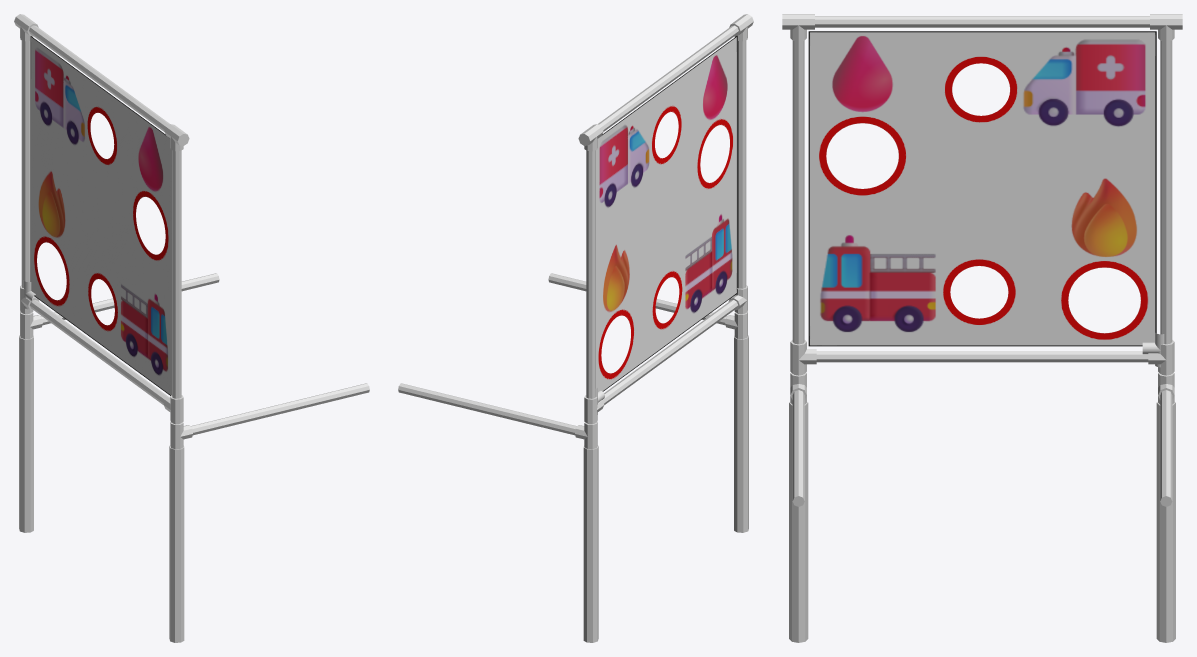
Rendered from torpedoMapping_2026_v2.glb.
3 renders of one model, left to right at view 1: azimuth 30°, elevation 25°; view 2: azimuth 150°, elevation 25°; view 3: azimuth 270°, elevation 25°, orthographic. The views are drawn at different scales.
Parts seen in each view (by area): view 1: Board_V2, Cylinder.006, Cylinder.005, Cylinder.003, Cylinder.015, Cylinder.001; view 2: Board_V2, Cylinder.006, Cylinder.003, Cylinder.005, Cylinder.001, Cylinder.015; view 3: Board_V2, Cylinder.006, Cylinder.005, Cylinder.003, Cylinder.015, Cylinder.001.
Boxes of the visible parts, x1,y1,x2,y2 form: Board_V2: (30, 36, 171, 395); Cylinder.006: (14, 14, 189, 423); Cylinder.005: (169, 445, 184, 642); Cylinder.003: (19, 335, 33, 532); Cylinder.015: (170, 383, 369, 449); Cylinder.001: (20, 273, 219, 339); Board_V2: (596, 36, 737, 391); Cylinder.006: (578, 14, 753, 423); Cylinder.003: (583, 445, 598, 642); Cylinder.005: (734, 335, 748, 532); Cylinder.001: (398, 383, 597, 449); Cylinder.015: (548, 273, 747, 339); Board_V2: (808, 31, 1156, 346); Cylinder.006: (782, 14, 1182, 374); Cylinder.005: (789, 402, 808, 642); Cylinder.003: (1156, 402, 1175, 642); Cylinder.015: (790, 372, 806, 506); Cylinder.001: (1158, 372, 1174, 506).
Bounding box in the file's own units: 0.4882 × 1.21 × 0.7017.
1 material, 1 textured.
